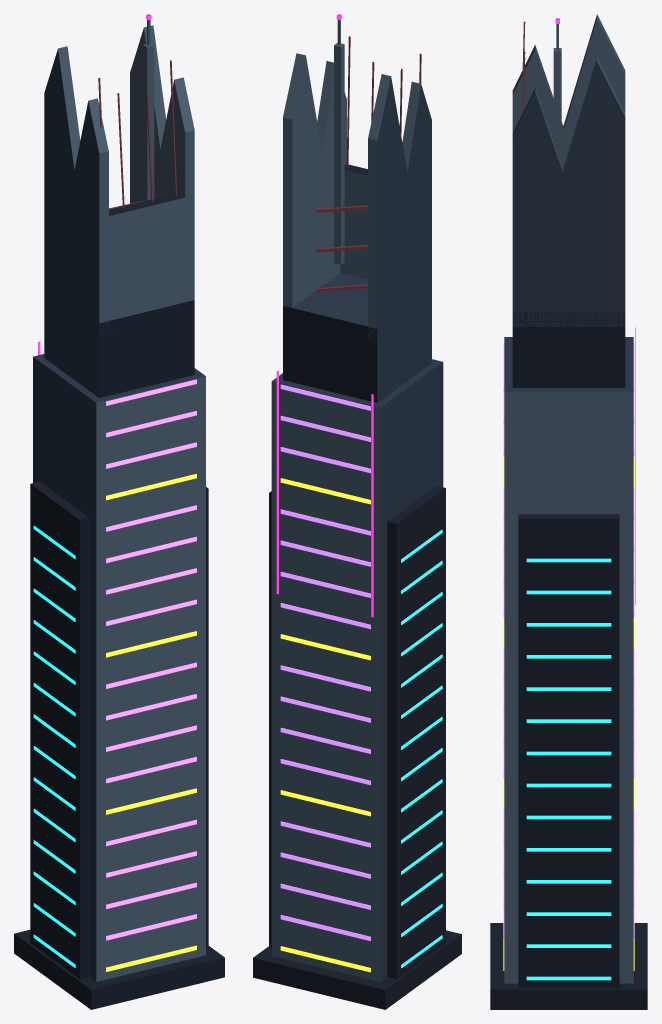
Rendered from prop-tower-b-c4b4ca07.glb.
The picture shows the model from 3 angles, left to right: view 1: azimuth 30°, elevation 25°; view 2: azimuth 150°, elevation 25°; view 3: azimuth 270°, elevation 25°; orthographic projection. The views are drawn at different scales.
Visible parts, largest first — view 1: prop-tower-b_body; view 2: prop-tower-b_body; view 3: prop-tower-b_body.
Part boxes in pixels (x1,y1,x2,y2): prop-tower-b_body: (14,14,224,1009); prop-tower-b_body: (253,14,461,1009); prop-tower-b_body: (490,14,647,1009).
Size of the model in its own units: 28 by 190 by 28.
